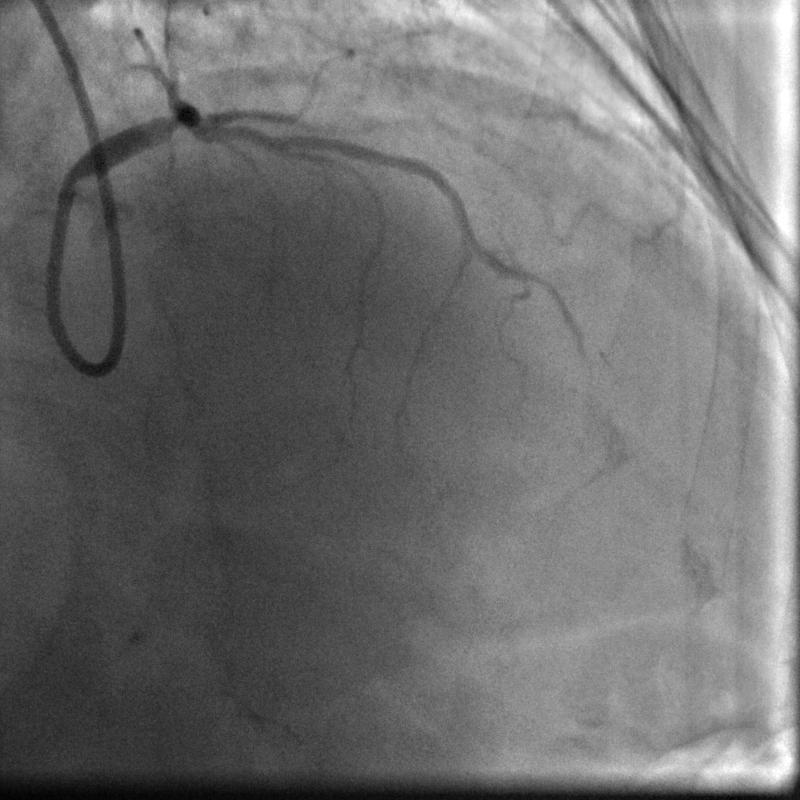Stenosis: (155, 103, 192, 140)
